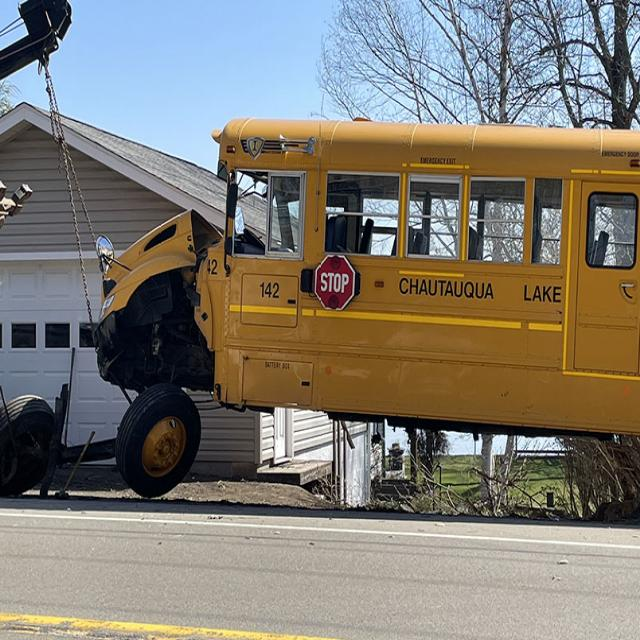bus: (87, 90, 640, 472)
